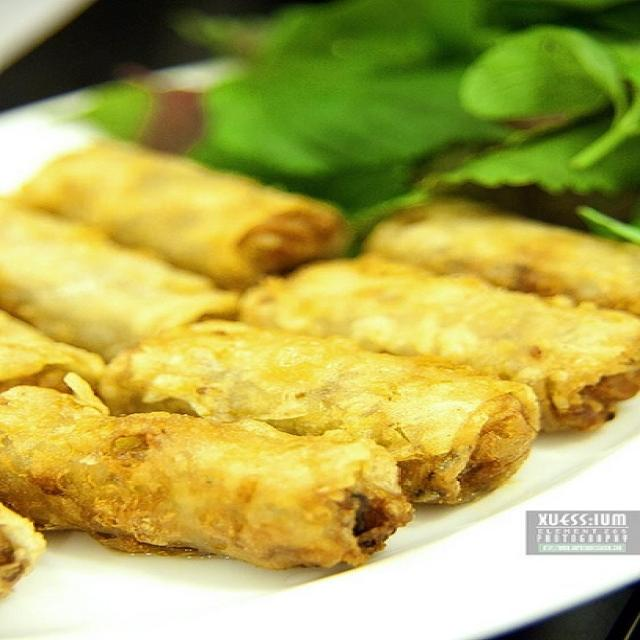炸货点心: (13, 98, 629, 573)
